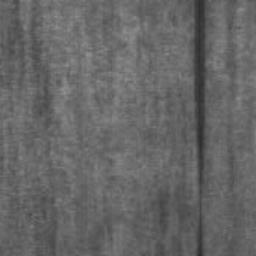Scratches: (194, 0, 207, 256)
